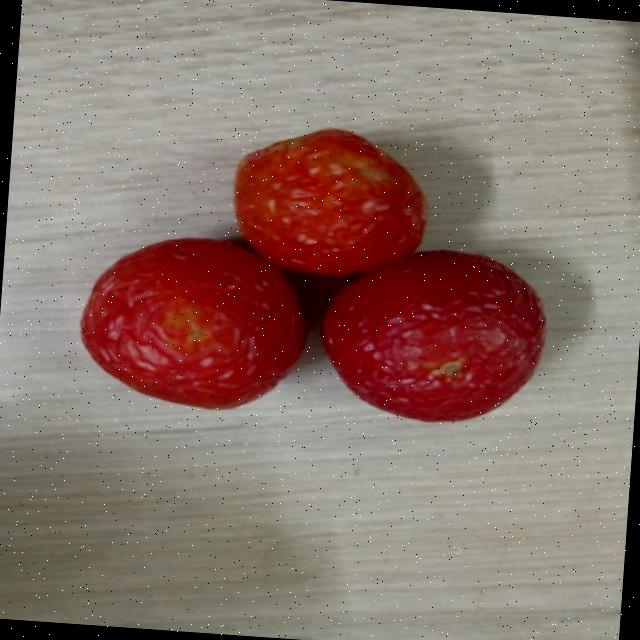overripe: (69, 232, 314, 420), (318, 240, 555, 434), (222, 120, 432, 286)
